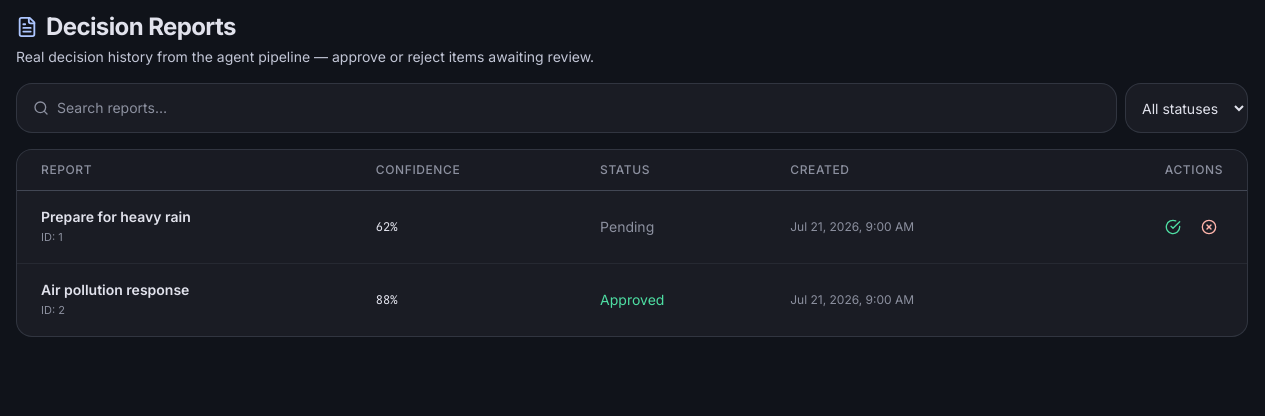
Test: ReportsPage › shows an inline error when approving a report fails
Click the button with test id "report-approve-button" at (1173, 227), box [1159, 213, 1187, 241]
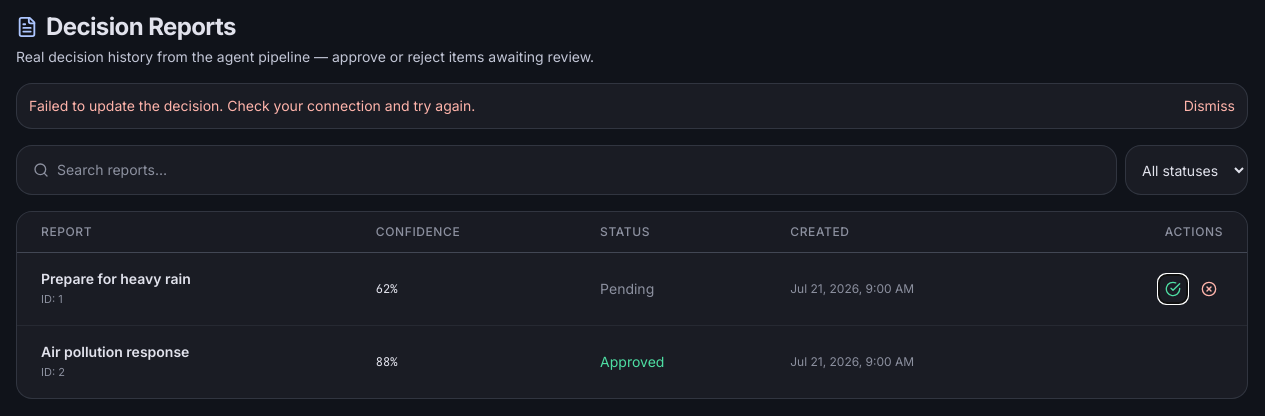
expect the element with test id "reports-action-error" is shown: met, box [16, 83, 1248, 129]
